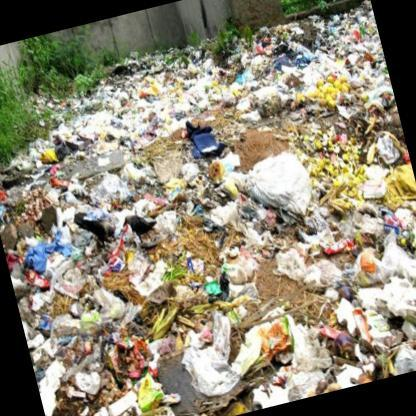Garbage: (0, 6, 415, 415), (6, 187, 207, 415), (310, 73, 416, 201), (21, 233, 112, 338), (332, 265, 415, 366), (82, 181, 163, 269), (166, 329, 282, 388), (245, 146, 306, 218), (277, 230, 339, 288), (176, 50, 235, 108), (195, 195, 264, 244), (360, 111, 410, 178), (92, 102, 144, 164), (150, 74, 198, 123), (390, 234, 415, 328), (374, 219, 414, 272), (32, 144, 80, 184), (285, 22, 330, 62), (129, 72, 169, 110), (347, 21, 383, 63), (120, 379, 154, 415), (191, 52, 220, 86), (329, 192, 357, 224)
